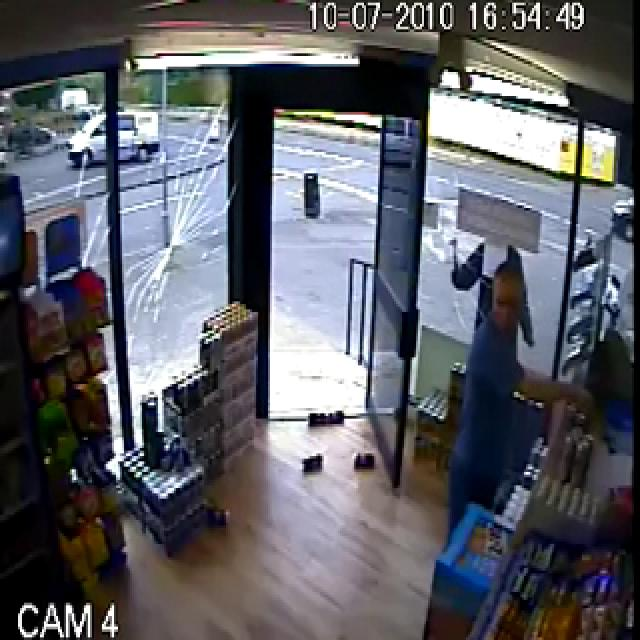vandalism: (428, 225, 620, 506)
